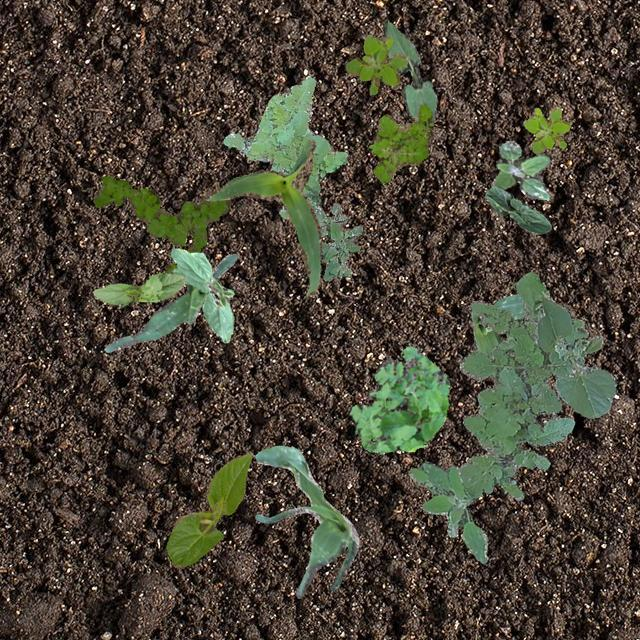crop: (202, 138, 320, 296), (255, 444, 358, 598), (104, 252, 235, 352), (534, 292, 616, 418), (165, 452, 251, 566), (170, 246, 232, 342), (382, 18, 437, 124), (470, 292, 524, 378), (484, 185, 550, 232), (91, 272, 186, 304)
weed: (458, 270, 588, 500), (222, 75, 346, 226), (93, 175, 229, 272), (348, 344, 448, 452), (408, 460, 487, 562), (368, 102, 430, 182), (344, 34, 406, 94), (489, 140, 548, 200), (318, 202, 362, 280), (522, 106, 570, 152)
